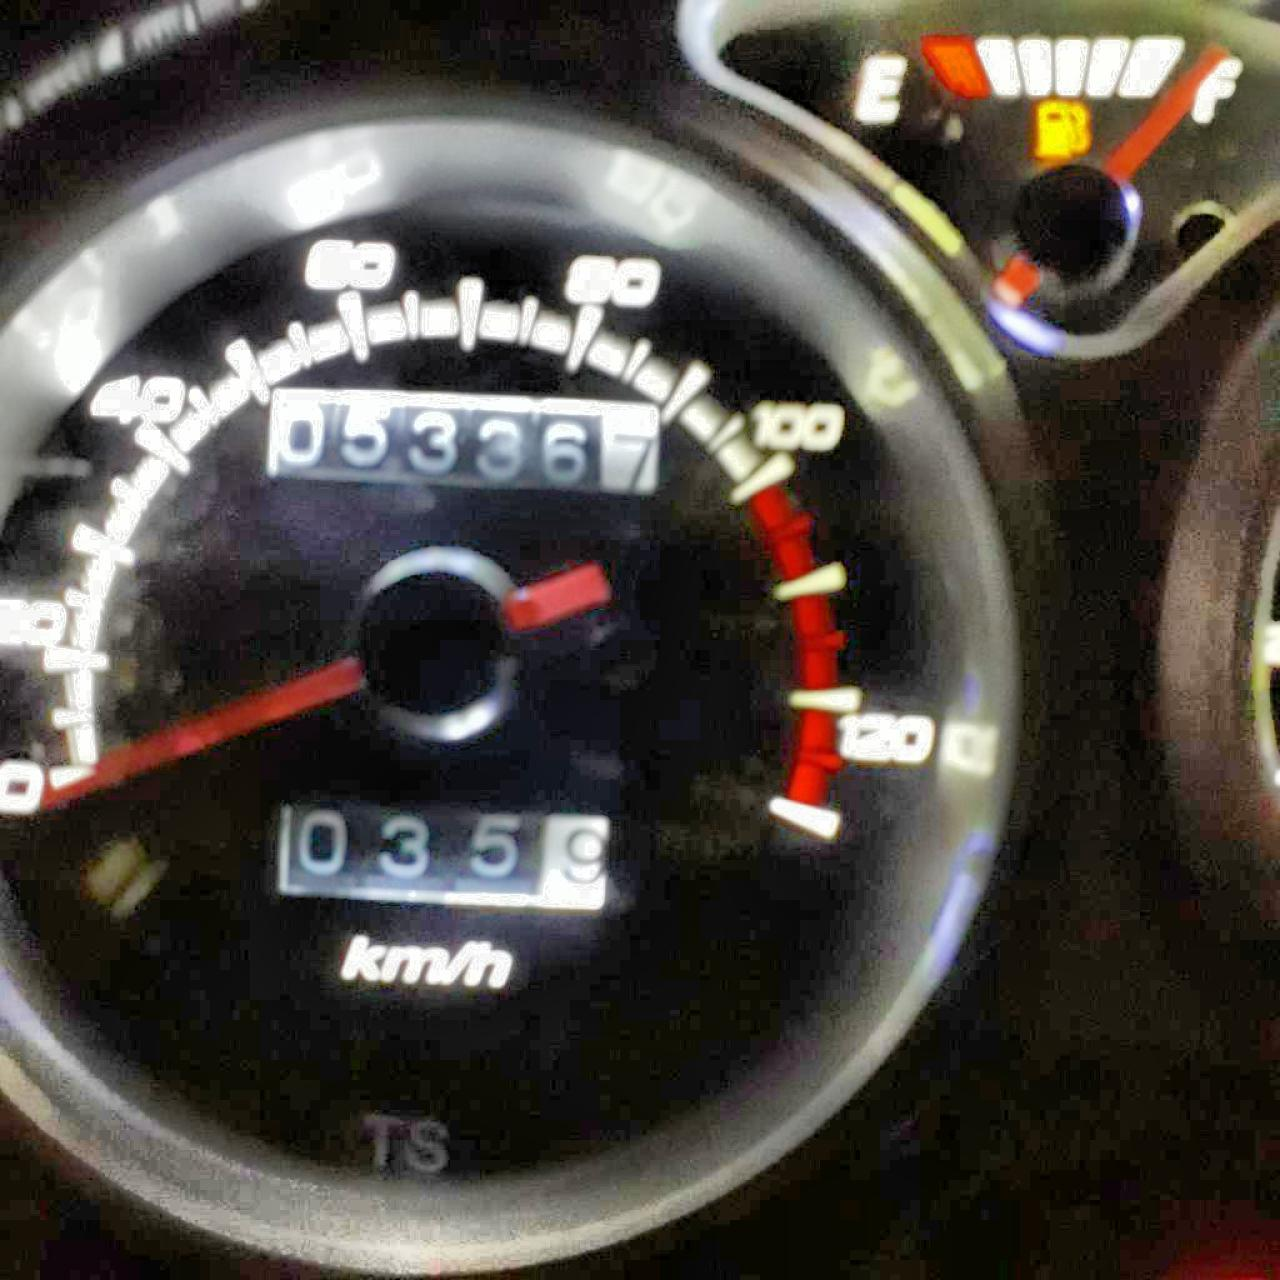0: (279, 399, 325, 468)
3: (407, 407, 458, 475), (472, 416, 524, 481)
5: (339, 402, 393, 468)
6: (540, 418, 588, 485)
7: (613, 431, 653, 492)
odometer: (261, 380, 667, 501)
